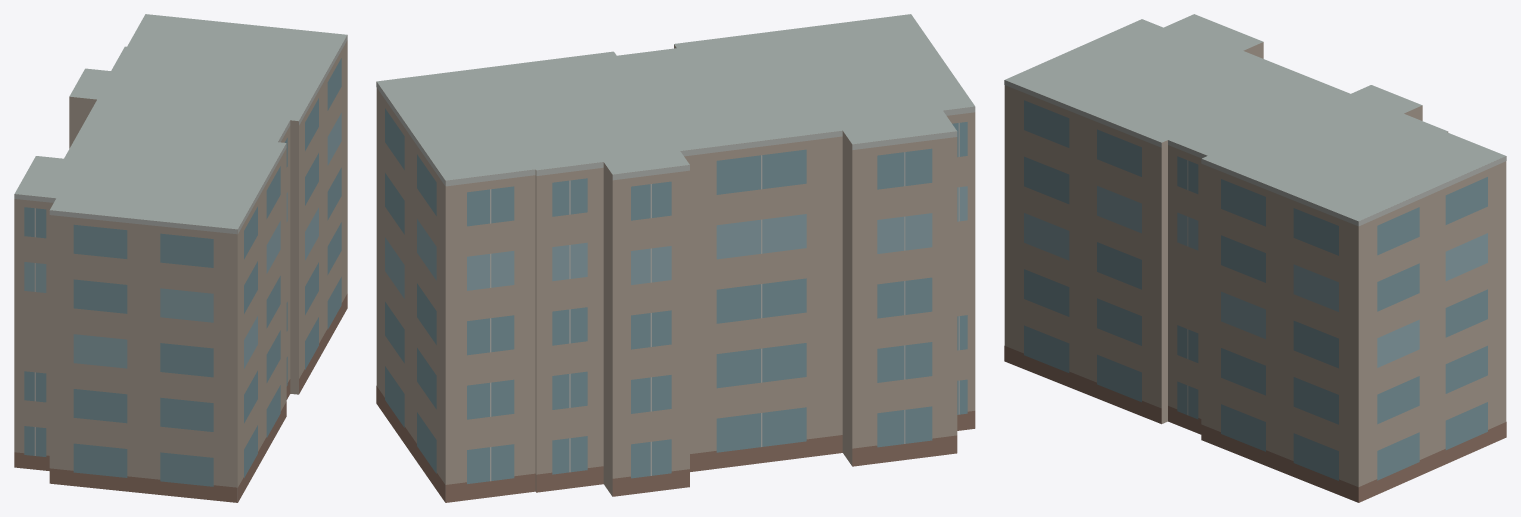
File: survey-upis-32626932.glb
3 views of the same model, side by side, from view 1: azimuth 30°, elevation 25°; view 2: azimuth 150°, elevation 25°; view 3: azimuth 270°, elevation 25° (orthographic). The views are drawn at different scales.
Parts seen in each view (by area): view 1: survey-upis-32626932.tmp; view 2: survey-upis-32626932.tmp; view 3: survey-upis-32626932.tmp.
Part boxes in pixels (<box>): survey-upis-32626932.tmp: <box>14,14,347,502</box>; survey-upis-32626932.tmp: <box>376,14,975,502</box>; survey-upis-32626932.tmp: <box>1004,14,1506,502</box>.
Size of the model in its own units: 21.58 by 13.65 by 22.06.
